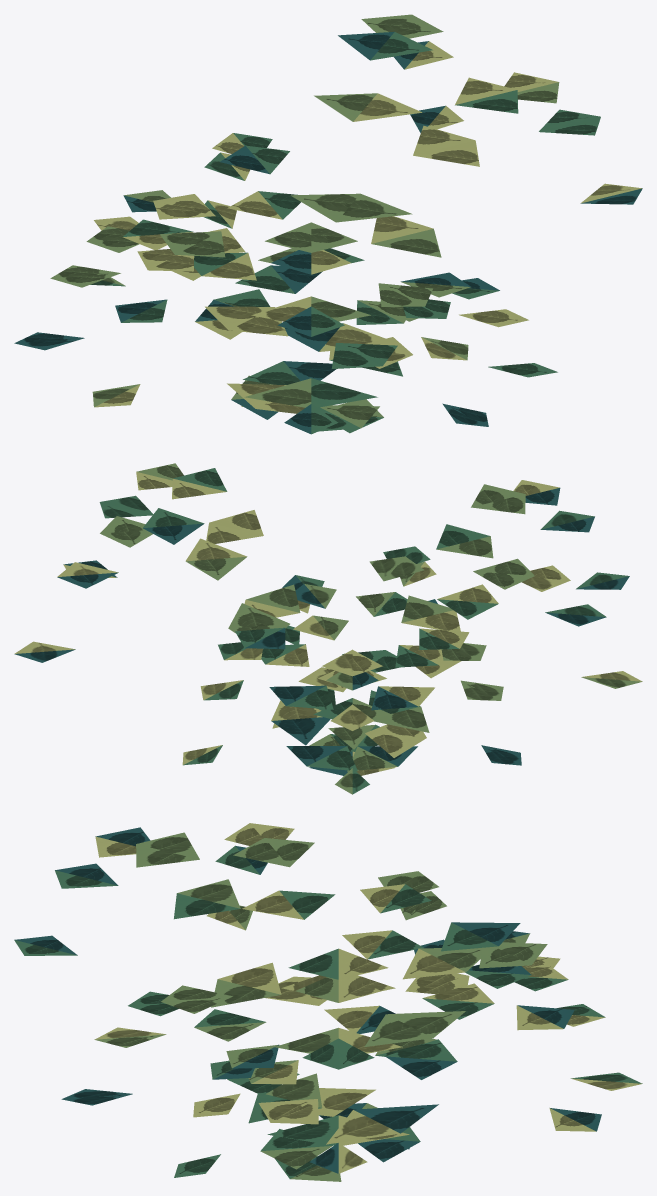
Rendered from fern.glb.
The picture shows the model from 3 angles, top to bottom: view 1: azimuth 30°, elevation 25°; view 2: azimuth 150°, elevation 25°; view 3: azimuth 270°, elevation 25°; orthographic projection. The views are drawn at different scales.
Parts seen in each view (by area): view 1: fern; view 2: fern; view 3: fern.
Boxes of the visible parts, x1,y1,x2,y2 form: fern: (14,14,642,434); fern: (14,463,642,794); fern: (14,823,642,1181).
Bounding box in the file's own units: 1.01 × 0.4524 × 0.8924.
Materials: 1 (1 with a texture image).
